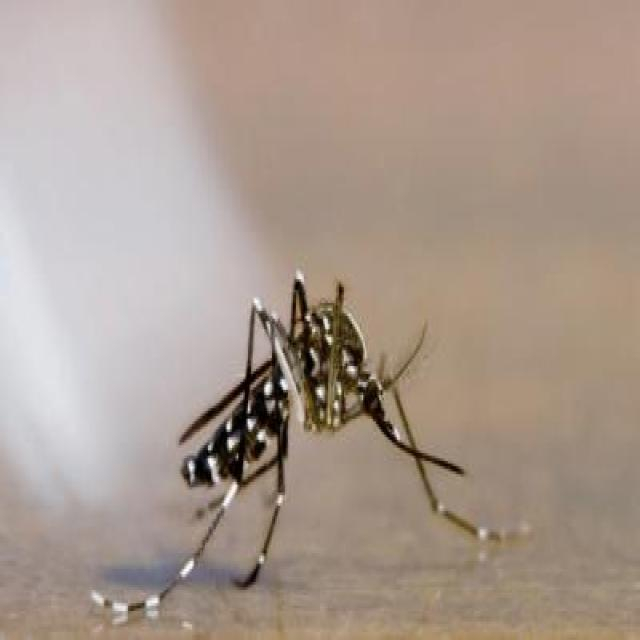antennae: (377, 317, 437, 397)
body: (184, 300, 384, 490)
insect: (88, 270, 531, 615)
legs: (92, 442, 295, 616), (398, 386, 531, 554)
mouthpart: (369, 389, 468, 482)
wings: (178, 325, 300, 447)
